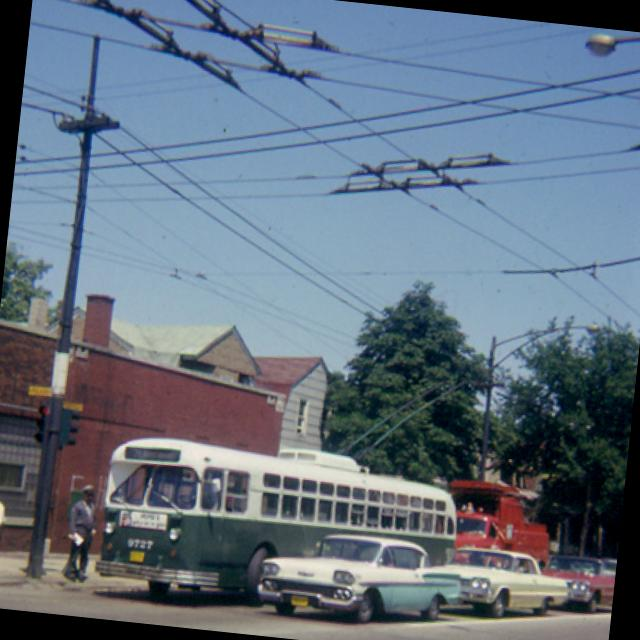Vehicle: (94, 429, 462, 628), (258, 525, 466, 633), (420, 544, 572, 624), (441, 480, 557, 565), (542, 551, 616, 613)
